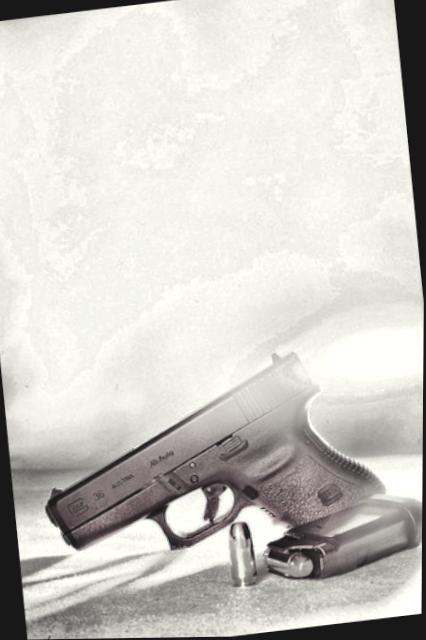pistol: (14, 340, 390, 566)
